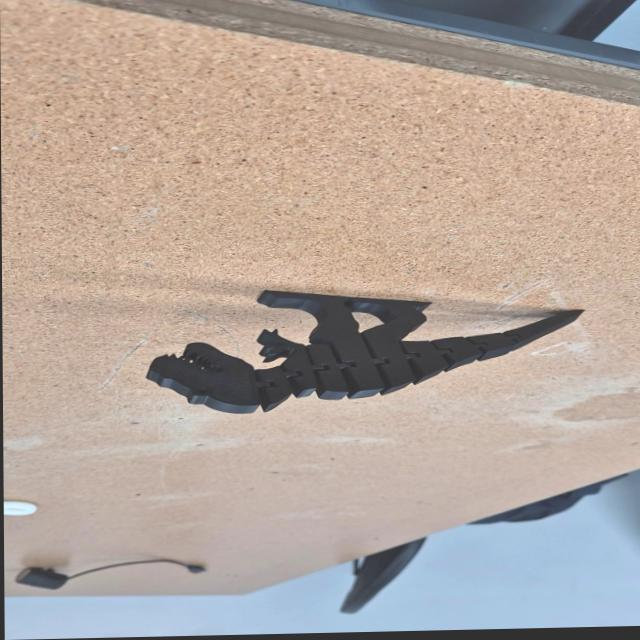dino: (144, 282, 589, 417)
